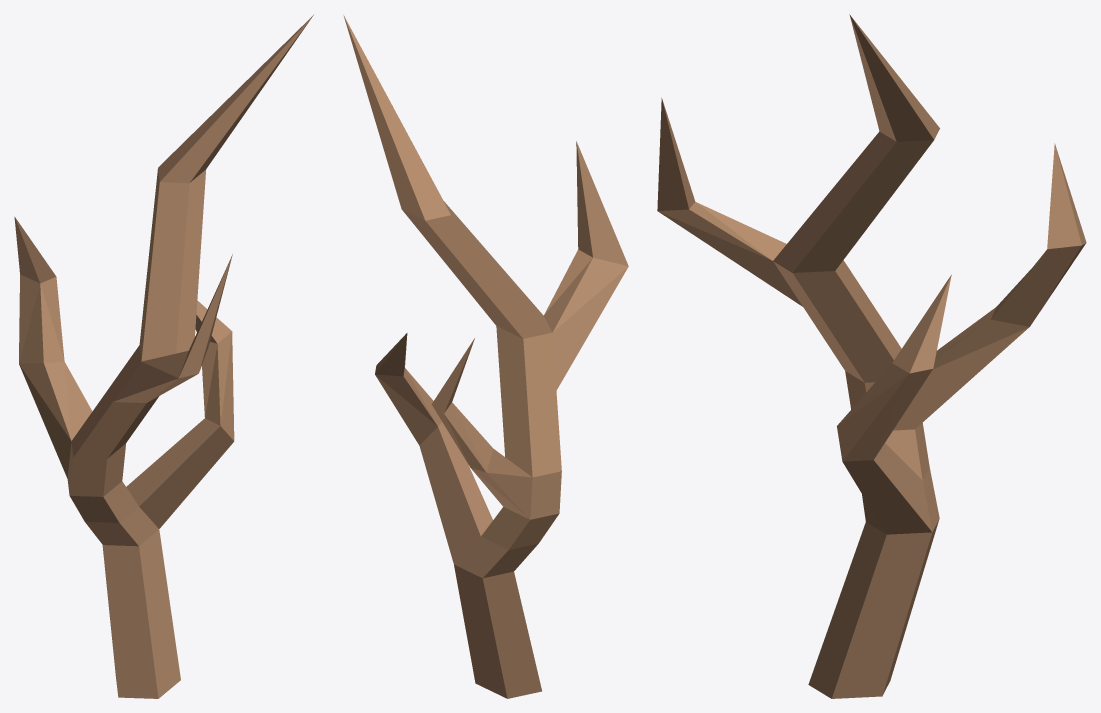
The model's file is Sc_arbolSinhojas_.fbx.
3 renders of one model, left to right at view 1: azimuth 30°, elevation 25°; view 2: azimuth 150°, elevation 25°; view 3: azimuth 270°, elevation 25°, orthographic. The views are drawn at different scales.
Visible parts, largest first — view 1: Cylinder_009; view 2: Cylinder_009; view 3: Cylinder_009.
Part boxes in pixels (x1,y1,x2,y2): Cylinder_009: (14, 15, 313, 698); Cylinder_009: (343, 15, 628, 698); Cylinder_009: (657, 14, 1086, 698).
Size of the model in its own units: 112 by 294 by 147.
